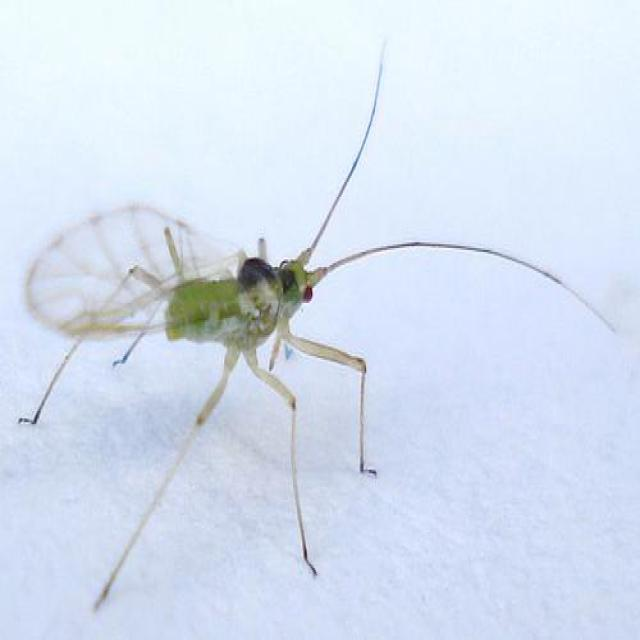Aphids: (16, 99, 626, 607)
